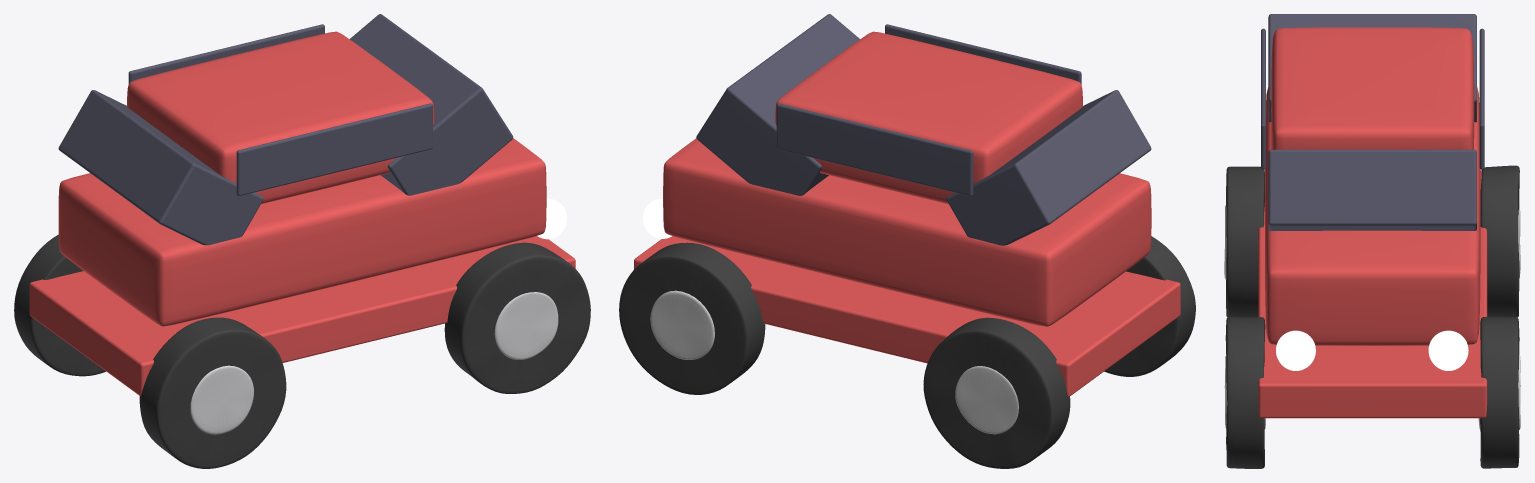
Rendered from red_car.glb.
3 renders of one model, left to right at view 1: azimuth 30°, elevation 25°; view 2: azimuth 150°, elevation 25°; view 3: azimuth 270°, elevation 25°, orthographic.
Visible parts, largest first — view 1: 车身, 车顶, 底盘, 后窗, 右前轮, 右后轮, 挡风玻璃, 右侧窗, 左后轮, 右后轮轮毂, 右前轮轮毂, 左侧窗 (+1 smaller); view 2: 车身, 车顶, 底盘, 后窗, 左后轮, 左前轮, 挡风玻璃, 左侧窗, 右后轮, 左前轮轮毂, 左后轮轮毂, 右侧窗 (+1 smaller); view 3: 车身, 车顶, 挡风玻璃, 底盘, 左前轮, 右前轮, 右后轮, 左后轮, 后窗, 大灯左, 大灯右, 左侧窗 (+1 smaller).
Part boxes in pixels (x1,y1,x2,y2): 车身: (58,138,546,326); 车顶: (127,31,434,203); 底盘: (29,236,575,395); 后窗: (58,90,263,245); 右前轮: (444,242,590,393); 右后轮: (139,317,286,468); 挡风玻璃: (349,14,513,195); 右侧窗: (236,103,432,195); 左后轮: (14,234,105,376); 右后轮轮毂: (190,365,253,434); 右前轮轮毂: (494,292,558,359); 左侧窗: (128,24,324,83); 车身: (663,138,1151,326); 车顶: (775,31,1082,204); 底盘: (634,236,1180,396); 后窗: (946,90,1151,245); 左后轮: (923,317,1070,468); 左前轮: (619,242,765,394); 挡风玻璃: (696,14,859,195); 左侧窗: (776,103,973,196); 右后轮: (1104,236,1195,376); 左前轮轮毂: (650,290,714,359); 左后轮轮毂: (955,366,1018,434); 右侧窗: (885,24,1081,84); 车身: (1264,87,1480,345); 车顶: (1271,27,1474,149); 挡风玻璃: (1268,149,1476,230); 底盘: (1258,170,1487,418); 左前轮: (1480,317,1519,468); 右前轮: (1225,317,1265,468); 右后轮: (1226,166,1264,317); 左后轮: (1480,165,1519,317); 后窗: (1268,14,1476,122); 大灯左: (1428,330,1468,370); 大灯右: (1276,330,1315,370); 左侧窗: (1479,28,1484,169).
Size of what is drawn, in the model's own units: 2.03 by 1.3 by 1.17.
